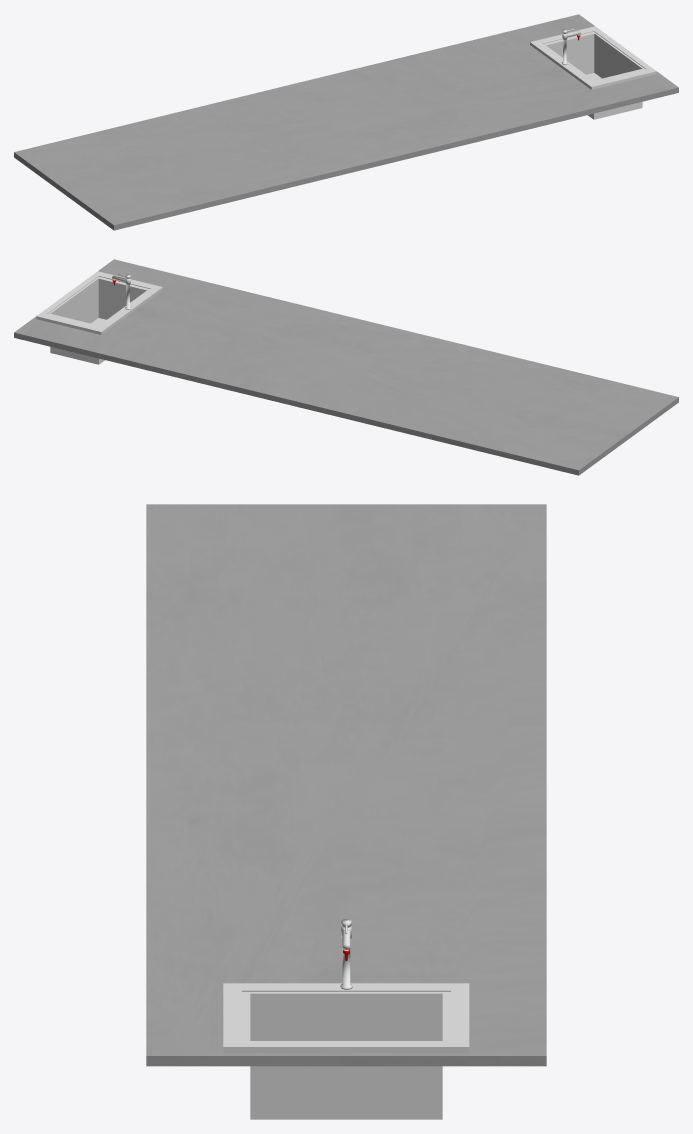
The model's file is new sink and bench top.fbx.
3 renders of one model, top to bottom at view 1: azimuth 30°, elevation 25°; view 2: azimuth 150°, elevation 25°; view 3: azimuth 270°, elevation 25°, orthographic. The views are drawn at different scales.
Visible parts, largest first — view 1: bench top, Cube.018; view 2: bench top, Cube.018; view 3: bench top, Cube.018.
Boxes of the visible parts, x1,y1,x2,y2 form: bench top: (14,14,678,230); Cube.018: (530,26,656,119); bench top: (14,259,678,475); Cube.018: (36,271,162,364); bench top: (146,504,546,1066); Cube.018: (223,983,469,1119).
Bounding box in the file's own units: 414 × 51.1 × 127.
